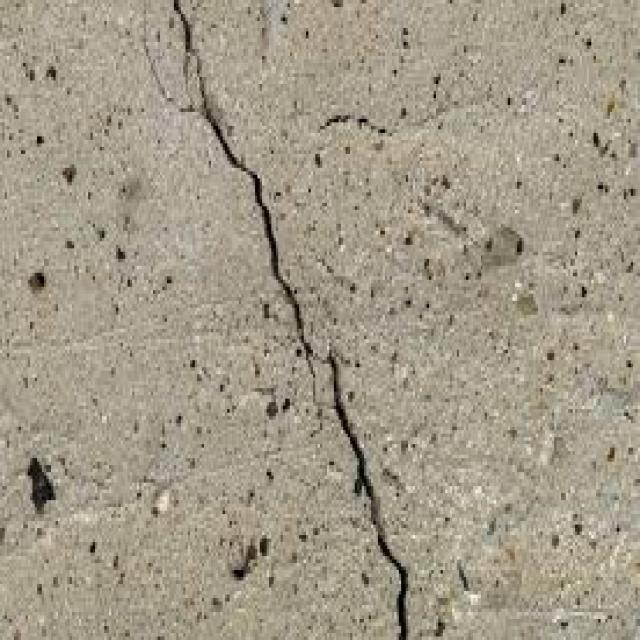Crack: (167, 0, 410, 637), (137, 0, 197, 112), (316, 105, 390, 133)
